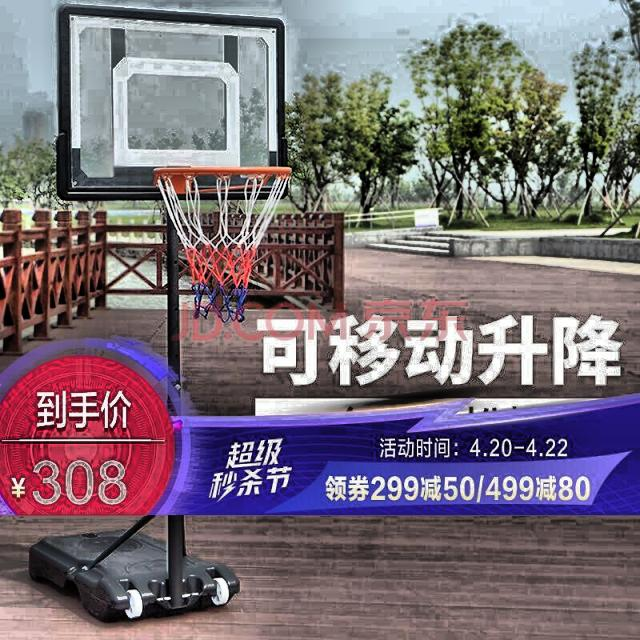rim: (150, 165, 294, 324)
